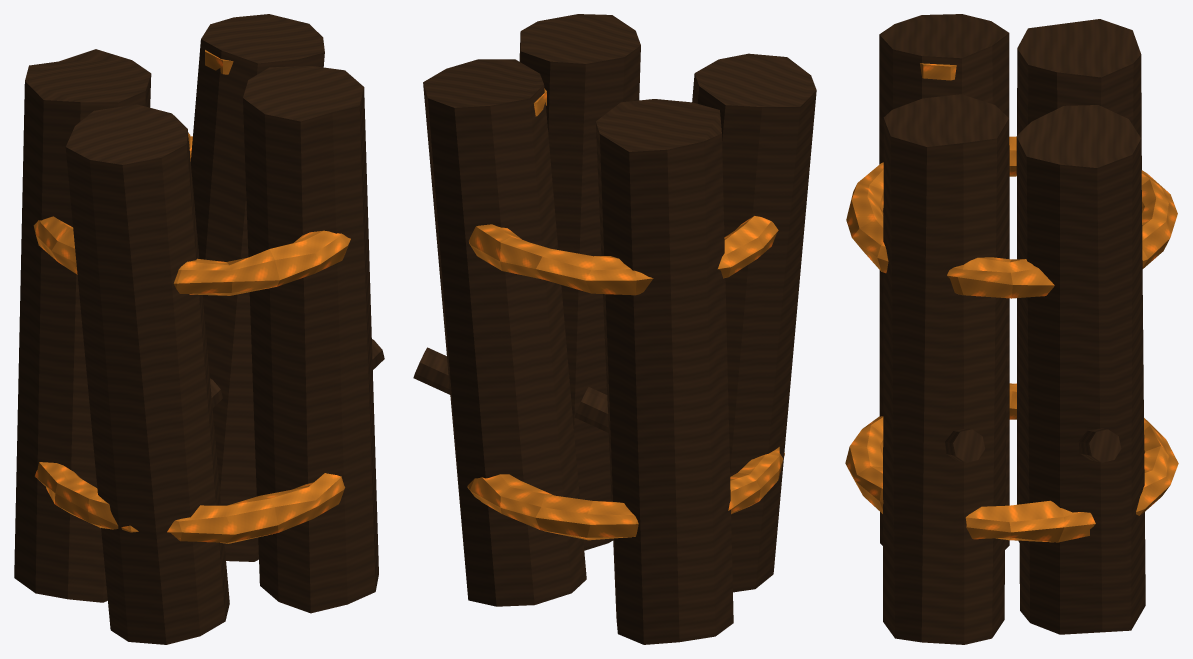
The model's file is underworld-resource-rotwood.glb.
3 views of the same model, side by side, from view 1: azimuth 30°, elevation 25°; view 2: azimuth 150°, elevation 25°; view 3: azimuth 270°, elevation 25° (orthographic).
Visible parts, largest first — view 1: member-0, member-1, member-2, member-3, binding-0, binding-1; view 2: member-2, member-3, member-0, member-1, binding-1, binding-0, branch-scar-3, branch-scar-2; view 3: member-1, member-3, member-0, member-2, binding-0, binding-1, branch-scar-3, branch-scar-1, split-heartwood-0.
Boxes of the visible parts, <box> form: member-0: <box>65,104,229,644</box>; member-1: <box>243,66,378,613</box>; member-2: <box>14,49,151,602</box>; member-3: <box>191,14,324,561</box>; binding-0: <box>34,462,345,543</box>; binding-1: <box>33,136,350,295</box>; member-2: <box>595,99,733,644</box>; member-3: <box>423,59,586,606</box>; member-0: <box>692,53,816,592</box>; member-1: <box>519,14,640,550</box>; binding-1: <box>469,216,778,295</box>; binding-0: <box>467,447,784,540</box>; branch-scar-3: <box>413,347,450,394</box>; branch-scar-2: <box>574,387,608,432</box>; member-1: <box>883,94,1009,644</box>; member-3: <box>1016,105,1145,634</box>; member-0: <box>879,14,1009,549</box>; member-2: <box>1017,19,1141,542</box>; binding-0: <box>845,383,1178,542</box>; binding-1: <box>846,136,1177,298</box>; branch-scar-3: <box>1078,428,1121,462</box>; branch-scar-1: <box>945,428,984,462</box>; split-heartwood-0: <box>920,63,956,80</box>.
Size of the model in its own units: 0.2149 by 0.3283 by 0.196.
2 materials, 2 textured.
